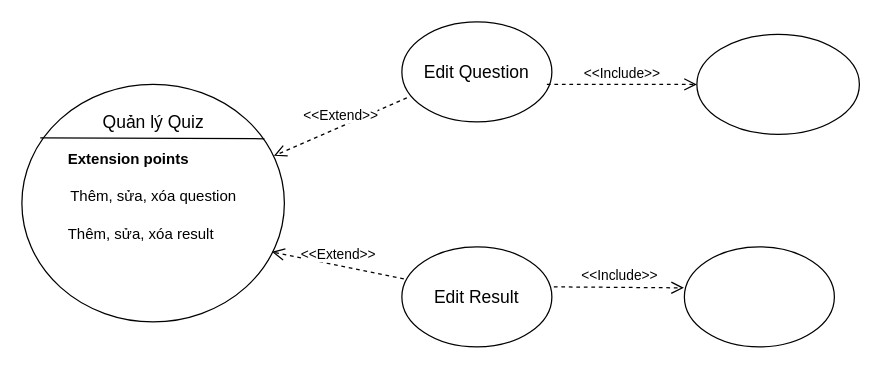
Image size: 881x369. Some labels were removed from this diagram. The shapes that lost their labels are listed below. From the top down, each one's centre as x and y in pixels, then its label:
pixel 777 83: Danh sách Question
pixel 758 296: Danh sách Result
